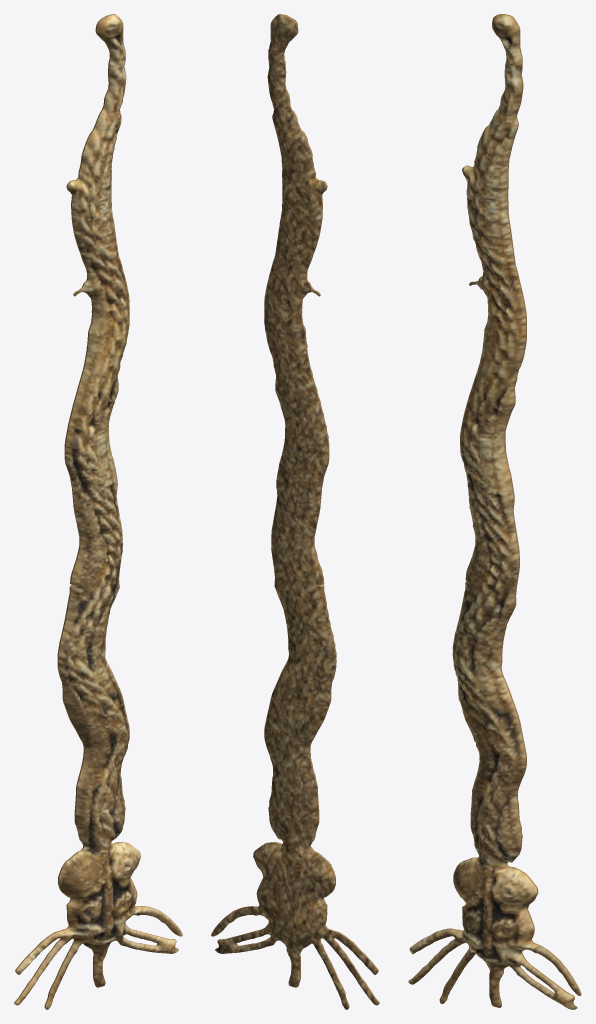
File: serpiente_tunjo.glb
3 renders of one model, left to right at view 1: azimuth 30°, elevation 25°; view 2: azimuth 150°, elevation 25°; view 3: azimuth 330°, elevation 25°, orthographic. The views are drawn at different scales.
Visible parts, largest first — view 1: serpiente_tunjo; view 2: serpiente_tunjo; view 3: serpiente_tunjo.
Boxes of the visible parts, x1,y1,x2,y2 form: serpiente_tunjo: [14, 14, 182, 1009]; serpiente_tunjo: [211, 14, 379, 1009]; serpiente_tunjo: [408, 14, 581, 1009].
Bounding box in the file's own units: 1.8 × 10.04 × 0.2722.
1 material, 1 textured.
